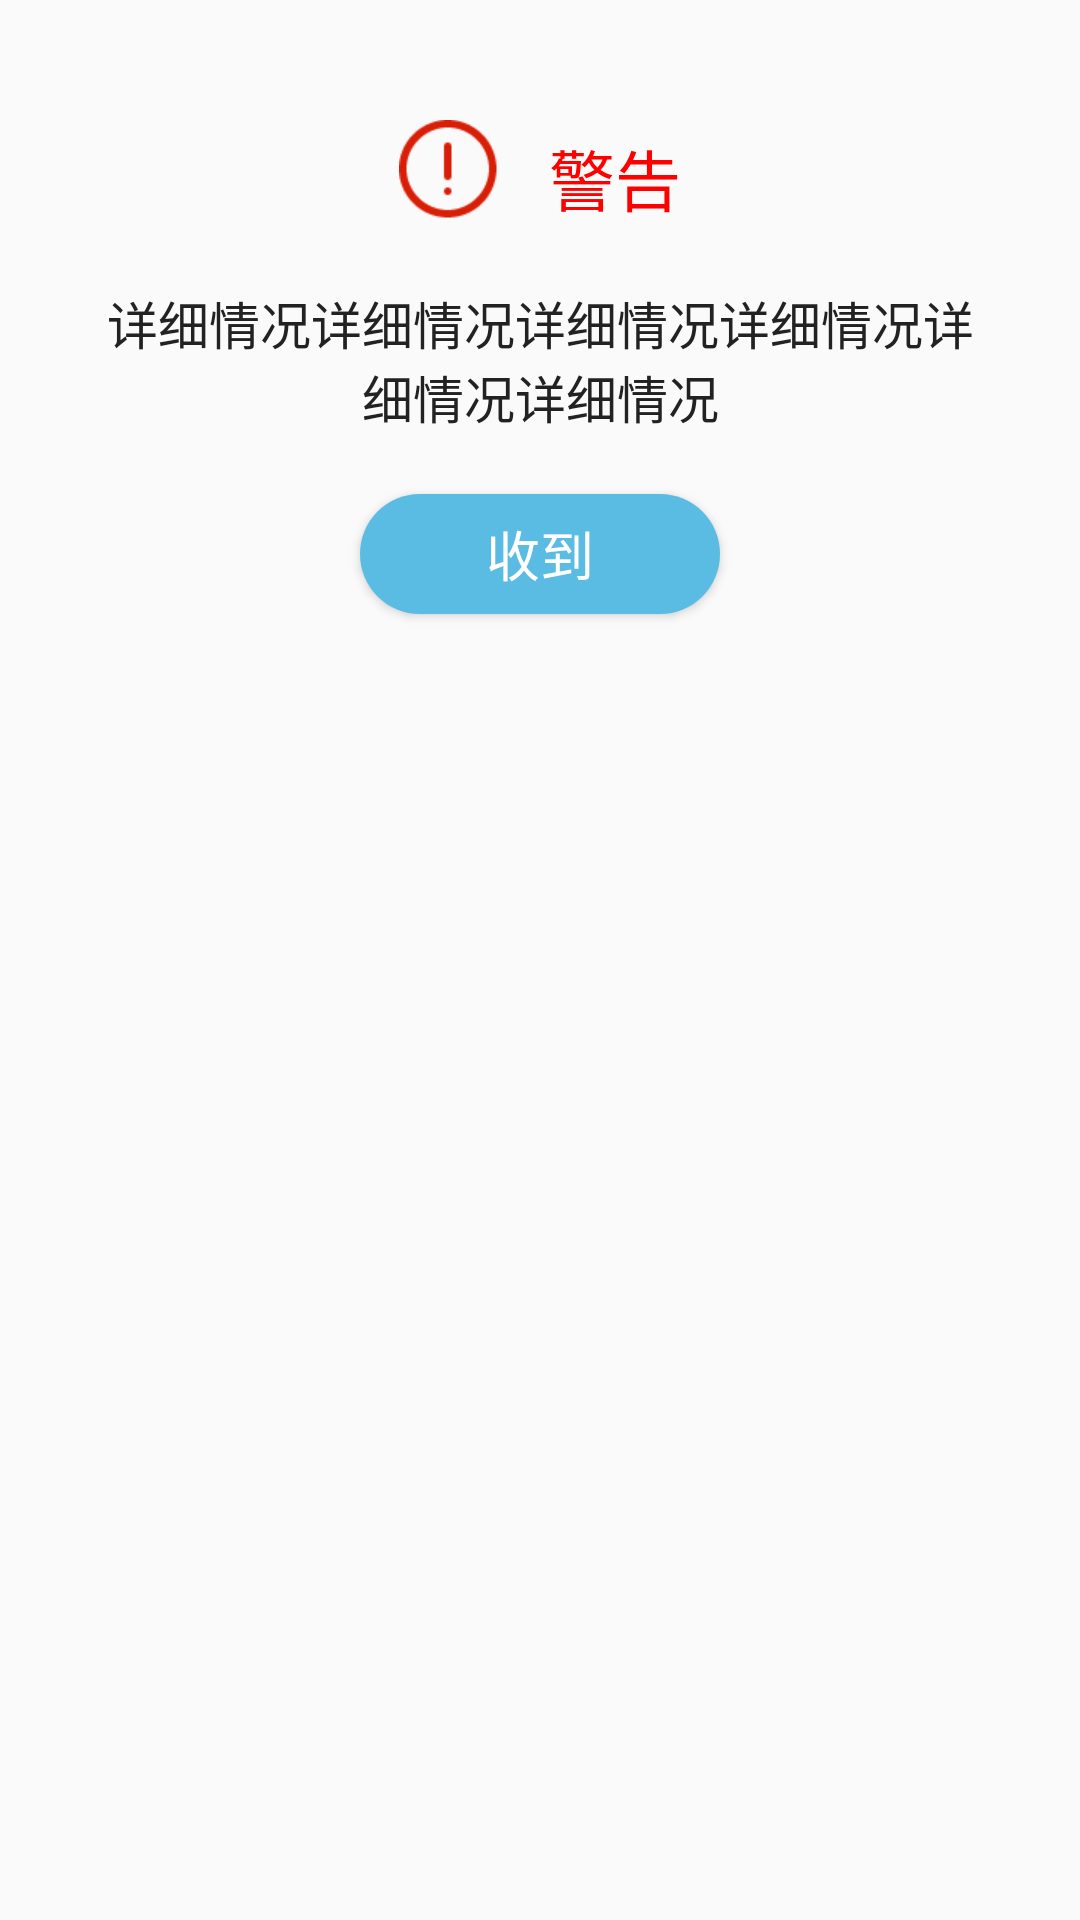

Point at icon controls on the screen. Image size 1080x1920, points as [x,y].
warning: [448,169]
